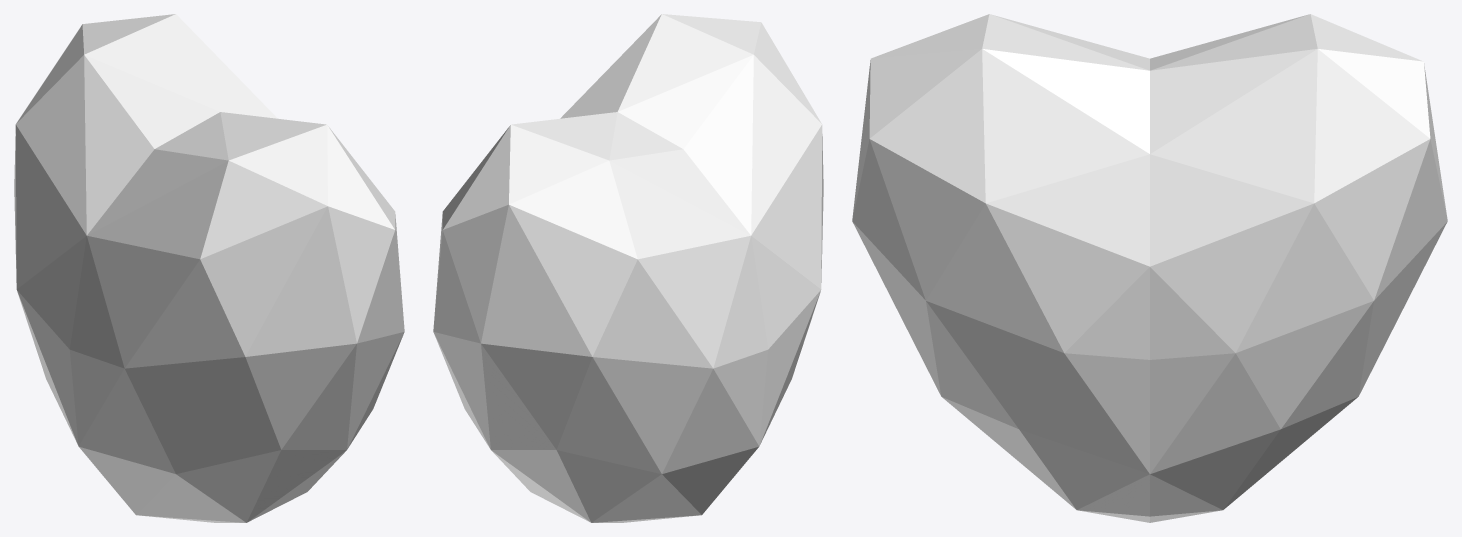
Rendered from ui_corazon.fbx.
3 renders of one model, left to right at view 1: azimuth 30°, elevation 25°; view 2: azimuth 150°, elevation 25°; view 3: azimuth 270°, elevation 25°, orthographic. The views are drawn at different scales.
Visible parts, largest first — view 1: corazon; view 2: corazon; view 3: corazon.
Boxes of the visible parts, x1,y1,x2,y2 form: corazon: (14, 14, 404, 522); corazon: (433, 14, 823, 522); corazon: (852, 14, 1447, 522).
Bounding box in the file's own units: 1.69 × 2.62 × 2.86.
